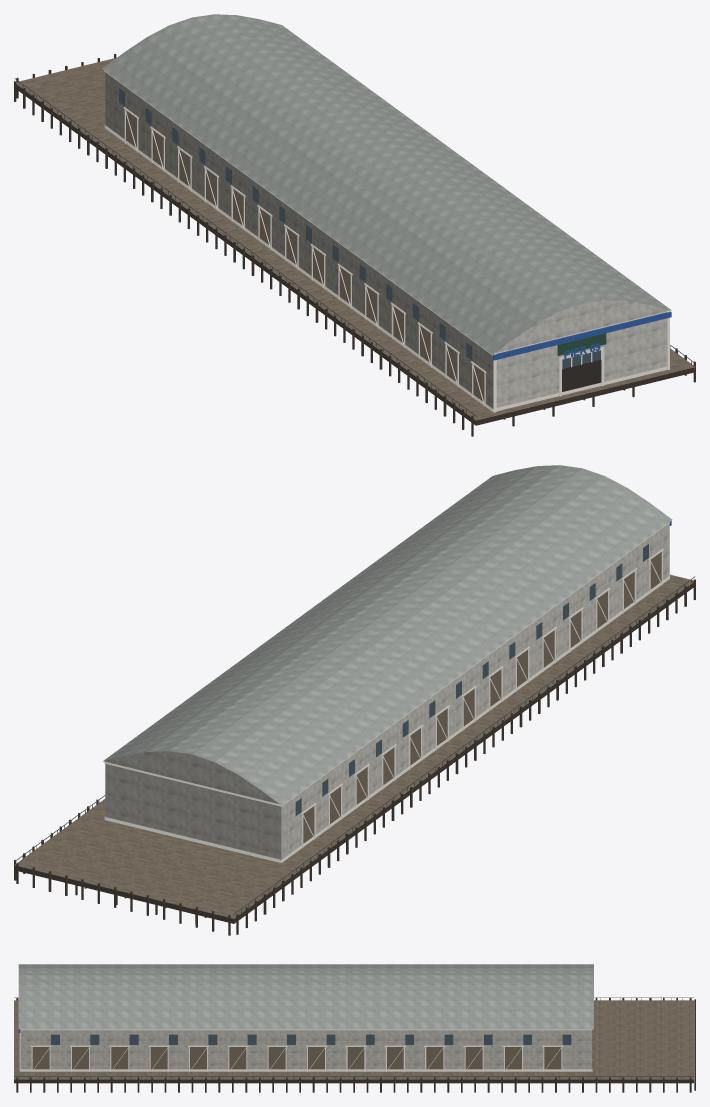
File: pier_69.glb
The picture shows the model from 3 angles, top to bottom: view 1: azimuth 30°, elevation 25°; view 2: azimuth 150°, elevation 25°; view 3: azimuth 270°, elevation 25°; orthographic projection. The views are drawn at different scales.
Parts seen in each view (by area): view 1: pier_69; view 2: pier_69; view 3: pier_69.
Boxes of the visible parts, x1,y1,x2,y2 form: pier_69: (14, 14, 695, 436); pier_69: (14, 465, 695, 935); pier_69: (14, 964, 695, 1092).
Bounding box in the file's own units: 56.19 × 25.05 × 201.
Materials: 4 (4 with a texture image).
